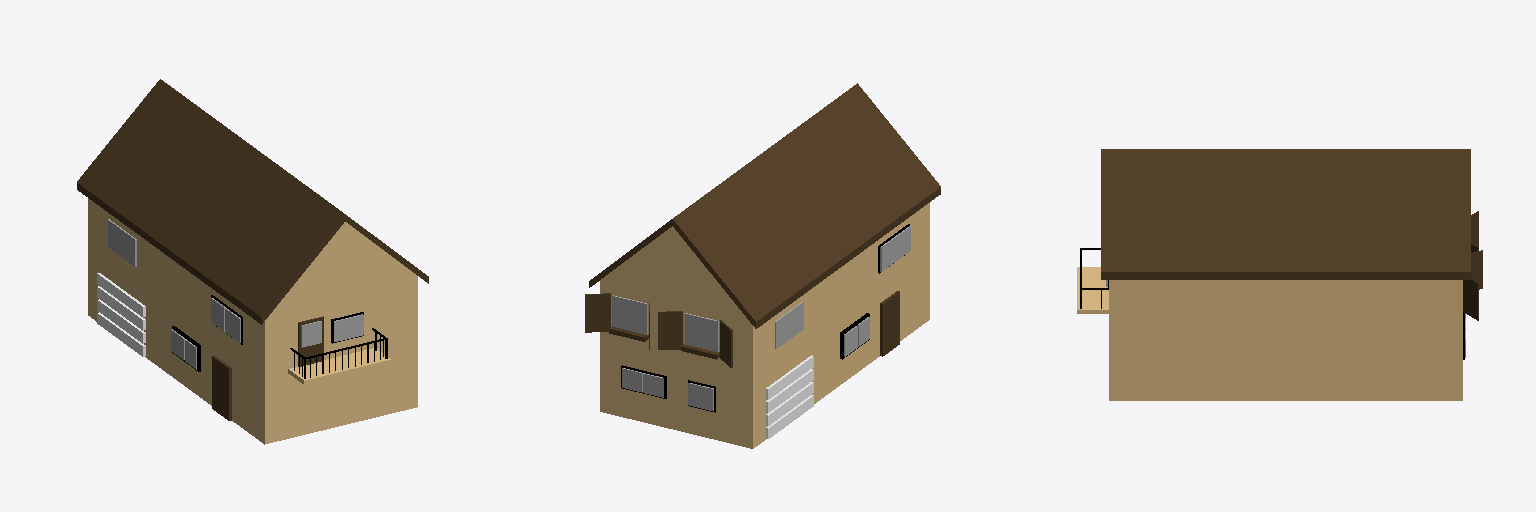
Rendered from detached_house_01a.obj.
3 views of the same model, side by side, from view 1: azimuth 30°, elevation 25°; view 2: azimuth 150°, elevation 25°; view 3: azimuth 270°, elevation 25° (orthographic).
Parts seen in each view (by area): view 1: Box45; view 2: Box45, Box70, Box69; view 3: Box45, Box70.
Boxes of the visible parts, x1=… form: Box45: x1=77, y1=79, x2=428, y2=444; Box45: x1=589, y1=83, x2=940, y2=448; Box70: x1=585, y1=293, x2=610, y2=332; Box69: x1=658, y1=311, x2=682, y2=349; Box45: x1=1077, y1=149, x2=1470, y2=400; Box70: x1=1463, y1=278, x2=1478, y2=320.
Bounding box in the file's own units: 12.02 × 14.72 × 25.23.